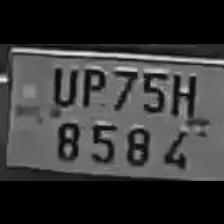4: (157, 122, 191, 168)
5: (84, 116, 118, 164), (138, 64, 168, 114)
7: (106, 62, 138, 112)
8: (120, 120, 152, 166), (50, 116, 82, 160)
H: (166, 68, 200, 120)
P: (76, 61, 108, 108)
U: (44, 61, 78, 108)
